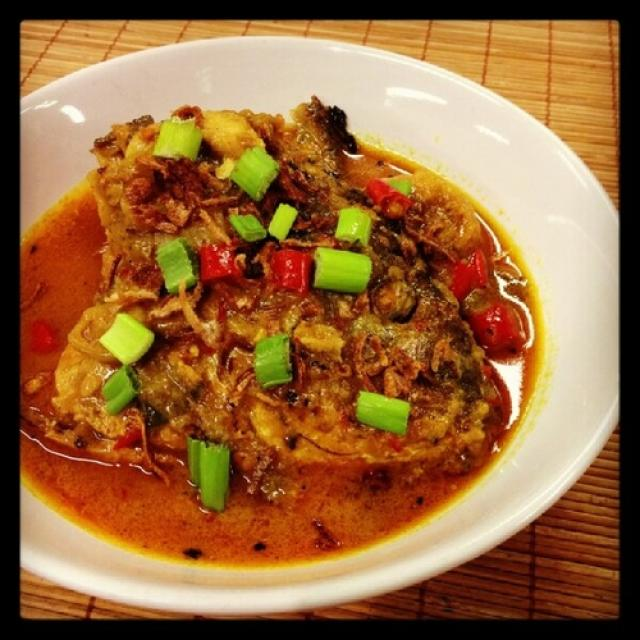熟制海鲜: (26, 42, 588, 608)
